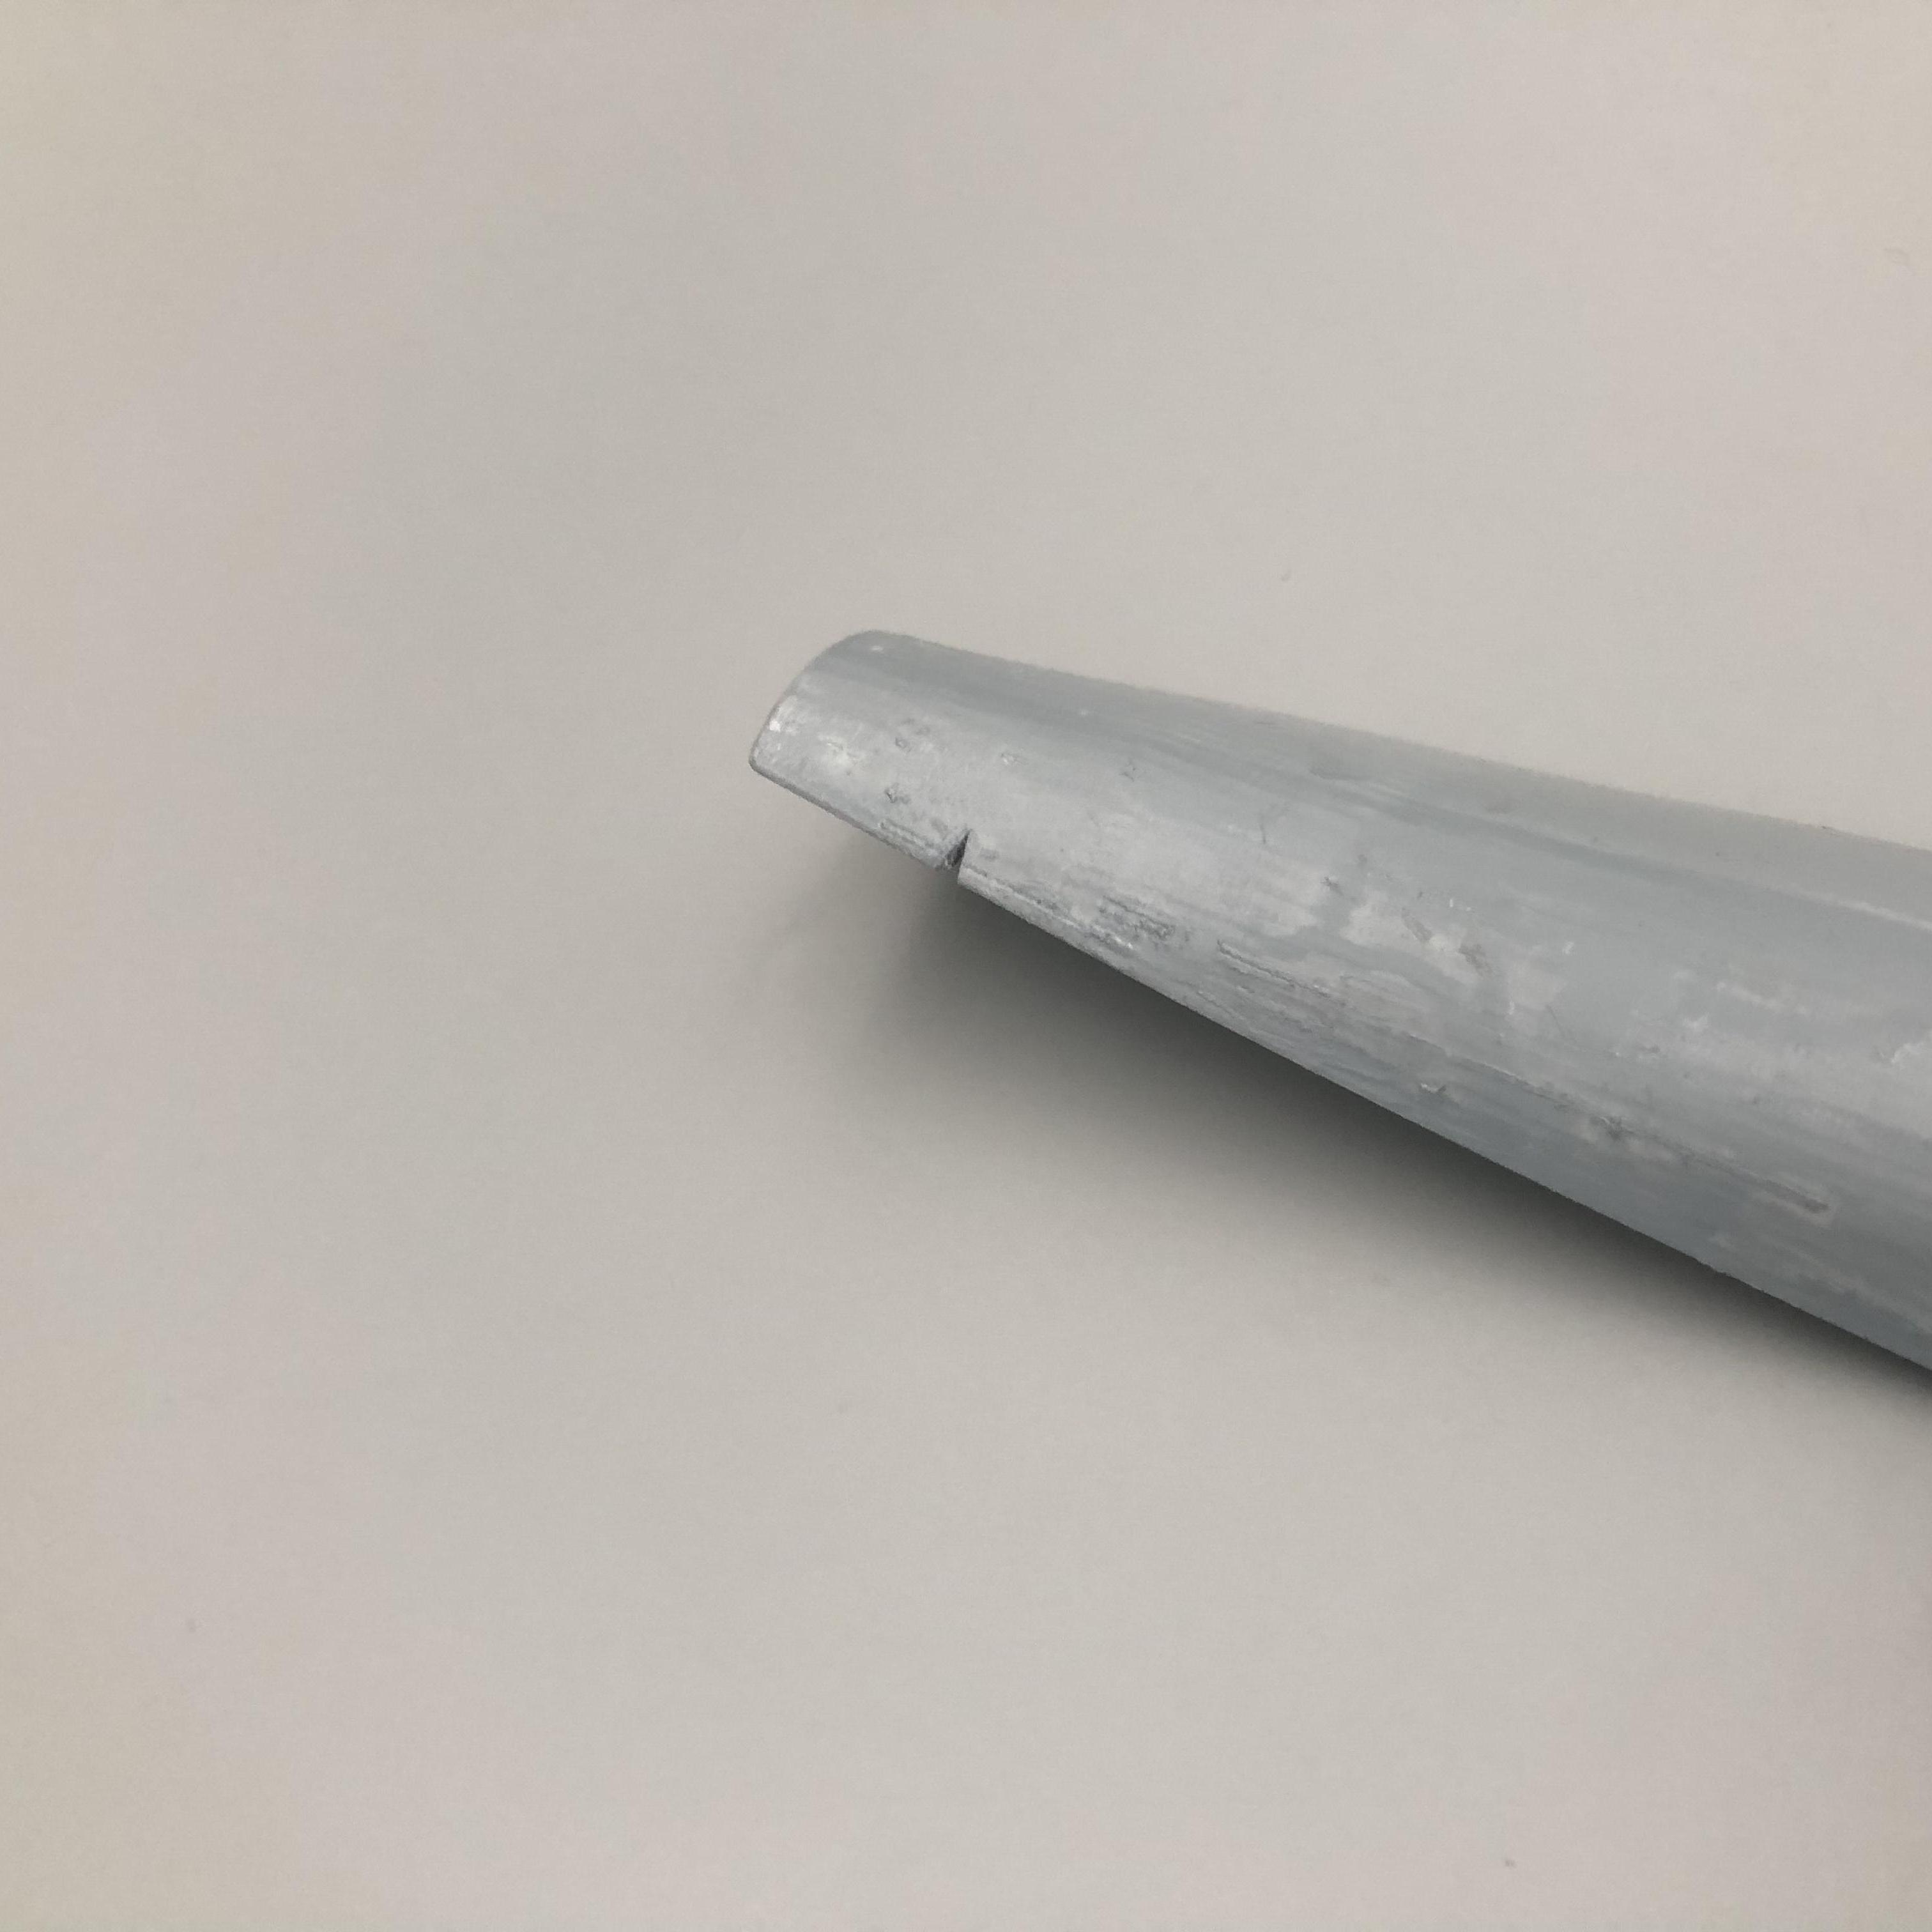groove: (934, 833, 985, 879)
